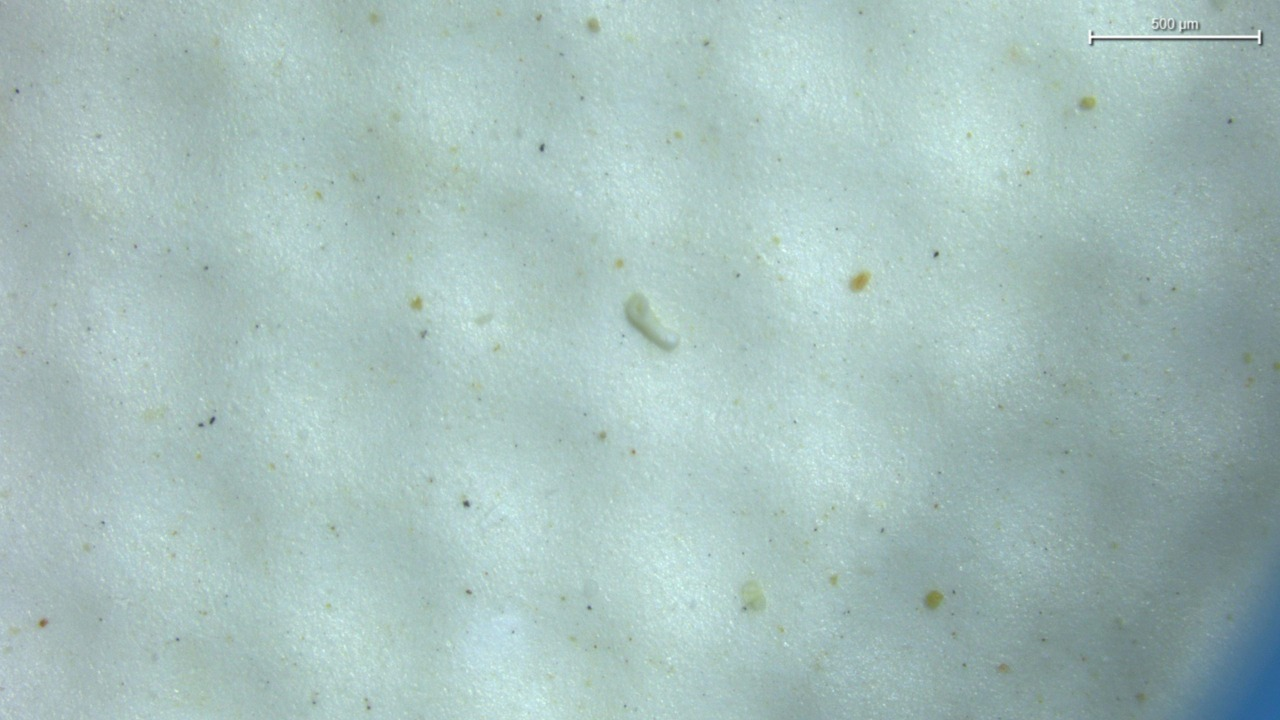microplastic_fragment: (624, 292, 679, 350)
